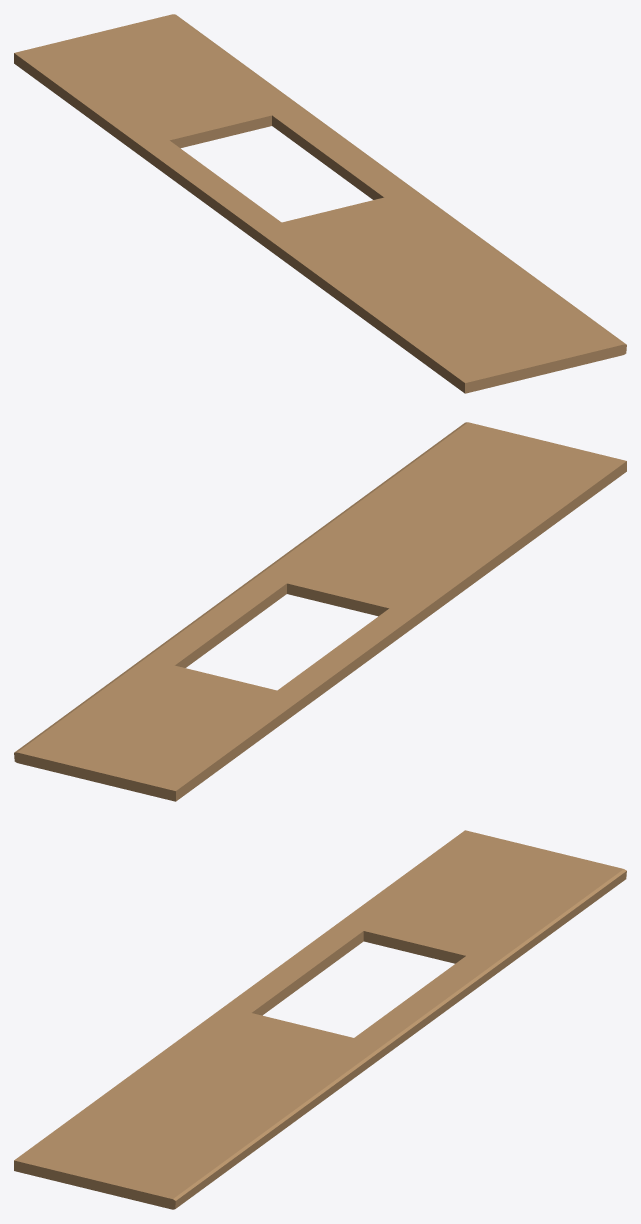
File: Countertop.fbx
3 views of the same model, one above another, from view 1: azimuth 30°, elevation 25°; view 2: azimuth 150°, elevation 25°; view 3: azimuth 330°, elevation 25° (orthographic).
Parts seen in each view (by area): view 1: Cube.016; view 2: Cube.016; view 3: Cube.016.
Part boxes in pixels (bbox=[...]): Cube.016: bbox=[14, 14, 626, 393]; Cube.016: bbox=[14, 422, 626, 801]; Cube.016: bbox=[14, 830, 626, 1209].
Size of the model in its own units: 132 by 8.21 by 636.
